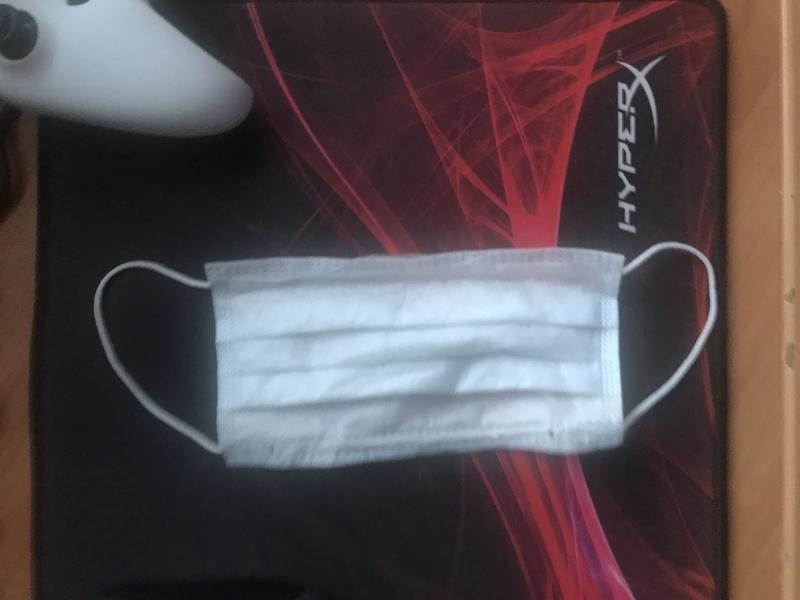medical_mask: (92, 238, 717, 467)
